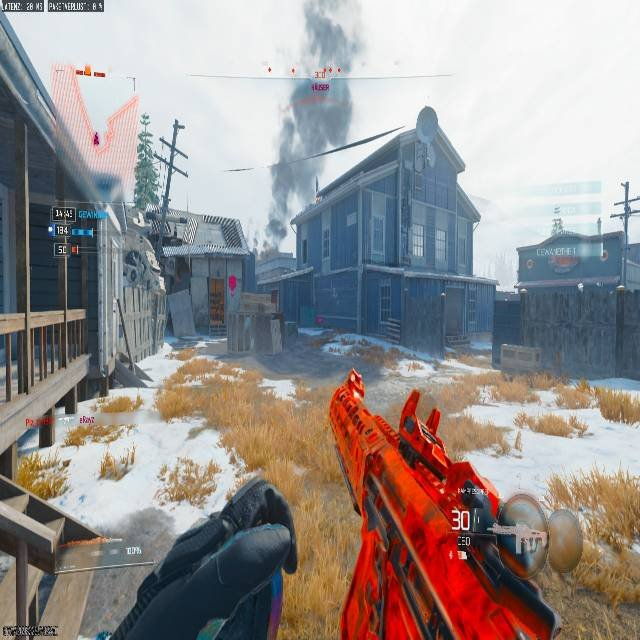player: (443, 477, 584, 635)
